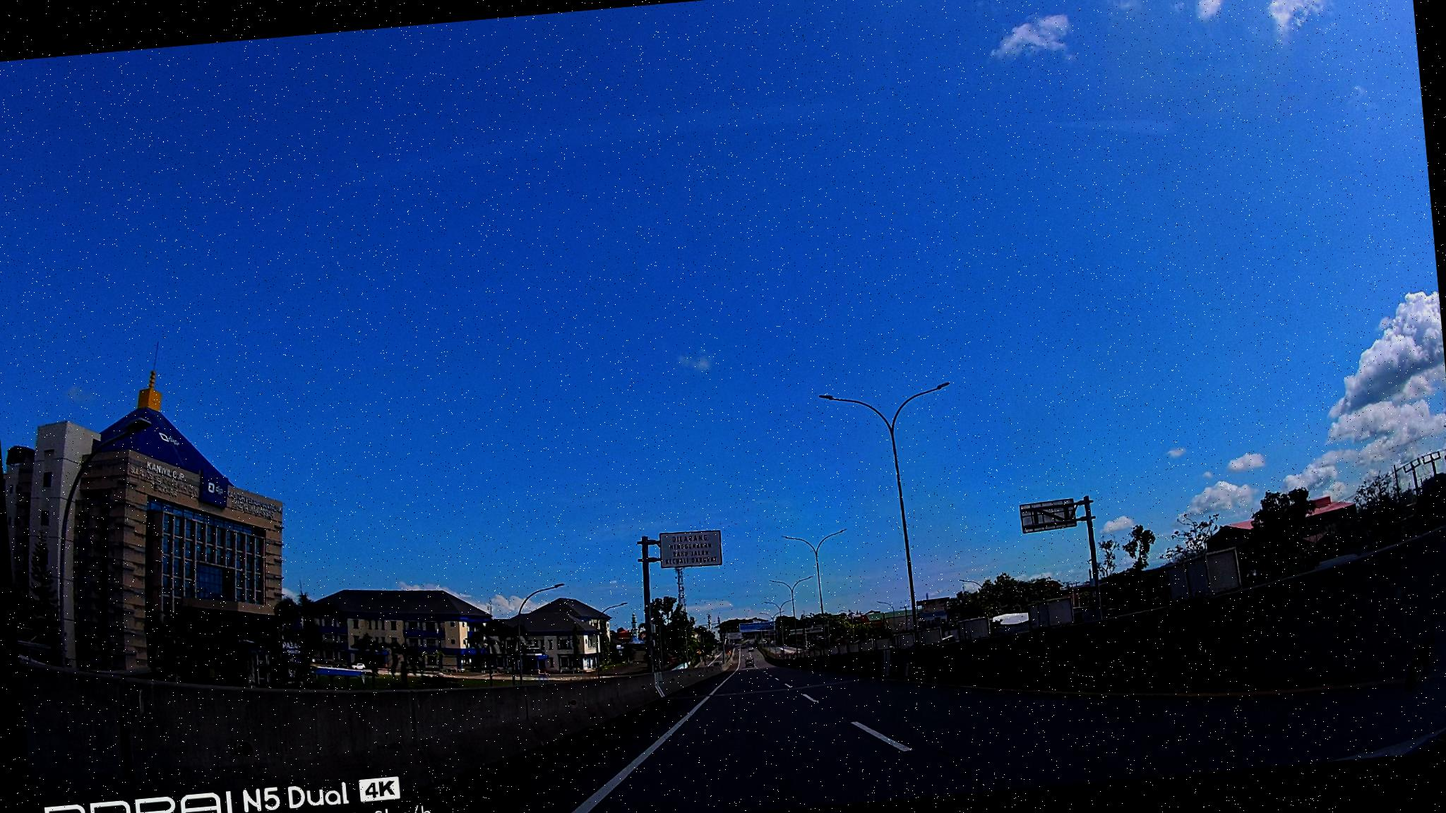rambu_teks: (658, 527, 724, 571)
